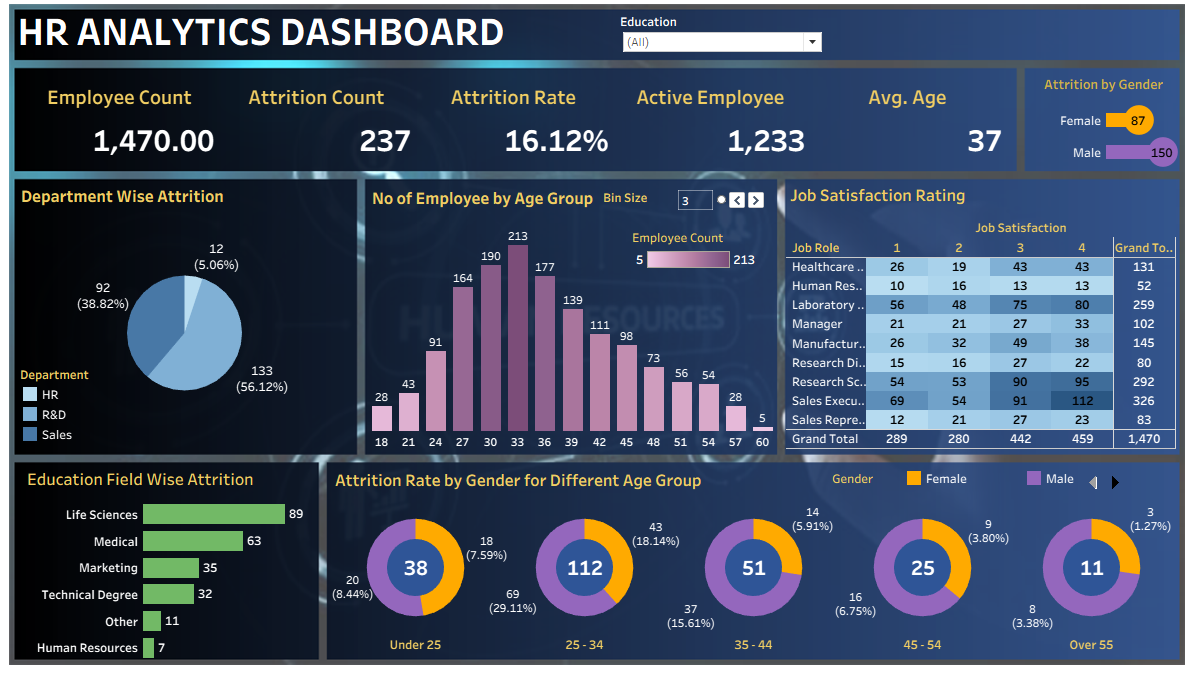

This screenshot's page, from the dashboard's own definition file:
{"tool":"tableau","page":{"name":"HR ANALYTICS DASHBOARD","canvas":[1200,900],"ordinal":0},"visuals":[{"type":"image","param":"Image/HR background.png","box":[8,8,1184,884]},{"type":"text","box":[18,114,499,62]},{"type":"filter","title":"Attrition Rate by Gender for Different Age Group","param":"[federated.1fgcex51dtszj41bpvg4k1s0z8nz].[none:Education:nk]","box":[623,128,205,41]},{"type":"worksheet","title":"KPI","mark":"Automatic","box":[24,184,985,102]},{"type":"worksheet","title":"Attrition by Gender","mark":"Automatic","rows":["Gender"],"cols":["Calculation_0284241613656064","Calculation_0284241613656064"],"box":[1029,186,155,97]},{"type":"worksheet","title":"Job Satisfaction Rating","mark":"Square","rows":["Job Role"],"cols":["Job Satisfaction"],"box":[789,295,390,269]},{"type":"worksheet","title":"Department Wise Attrition","mark":"Pie","box":[20,296,335,267]},{"type":"worksheet","title":"No of Employee by Age Group","mark":"Automatic","rows":["Employee Count"],"cols":["Age (bin)"],"box":[371,298,409,268]},{"type":"parameter","param":"[Parameters].[Parameter 0085780032143360]","box":[606,302,164,38]},{"type":"legend","title":"No of Employee by Age Group","param":"[federated.1fgcex51dtszj41bpvg4k1s0z8nz].[sum:Employee Count:qk]","box":[635,344,128,47]},{"type":"legend","title":"Department Wise Attrition","param":"[federated.1fgcex51dtszj41bpvg4k1s0z8nz].[none:Department:nk]","box":[23,481,92,78]},{"type":"worksheet","title":"Education Field Wise Attrition","mark":"Automatic","rows":["Education Field"],"cols":["Calculation_0284241613656064"],"box":[26,579,292,197]},{"type":"worksheet","title":"Attrition Rate by Gender for Different Age Group","mark":"Pie","rows":["Calculation_0085780050358276","Calculation_0085780050358276"],"cols":["CF_age band"],"box":[334,580,845,189]},{"type":"legend","title":"Attrition Rate by Gender for Different Age Group","param":"[federated.1fgcex51dtszj41bpvg4k1s0z8nz].[none:Gender:nk]","box":[835,583,296,28]}]}

Visuals, with their boxes on the page's 1200x900 design canvas (x1, y1, x2, y2). These are canvas units, not pixel positions in the 1192x683 screenshot, which may show the page scaled, cropped or inside an application window:
image: bbox=[8, 8, 1192, 892]
text: bbox=[18, 114, 517, 176]
"Attrition Rate by Gender for Different Age Group" filter: bbox=[623, 128, 828, 169]
"KPI" worksheet: bbox=[24, 184, 1009, 286]
"Attrition by Gender" worksheet: bbox=[1029, 186, 1184, 283]
"Job Satisfaction Rating" worksheet (Square marks): bbox=[789, 295, 1179, 564]
"Department Wise Attrition" worksheet (Pie marks): bbox=[20, 296, 355, 563]
"No of Employee by Age Group" worksheet: bbox=[371, 298, 780, 566]
parameter: bbox=[606, 302, 770, 340]
"No of Employee by Age Group" legend: bbox=[635, 344, 763, 391]
"Department Wise Attrition" legend: bbox=[23, 481, 115, 559]
"Education Field Wise Attrition" worksheet: bbox=[26, 579, 318, 776]
"Attrition Rate by Gender for Different Age Group" worksheet (Pie marks): bbox=[334, 580, 1179, 769]
"Attrition Rate by Gender for Different Age Group" legend: bbox=[835, 583, 1131, 611]
